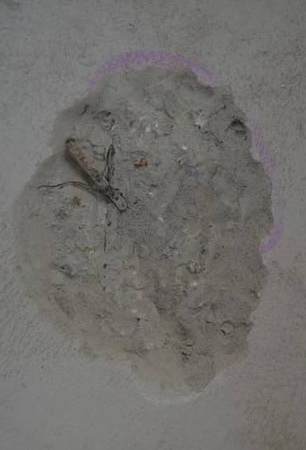Exposed reinforcement: (67, 140, 128, 211)
Spalling: (12, 65, 275, 404)
